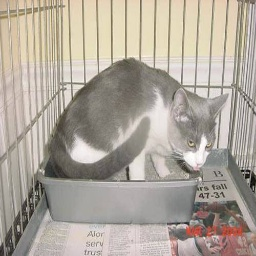cat: (33, 57, 231, 181)
